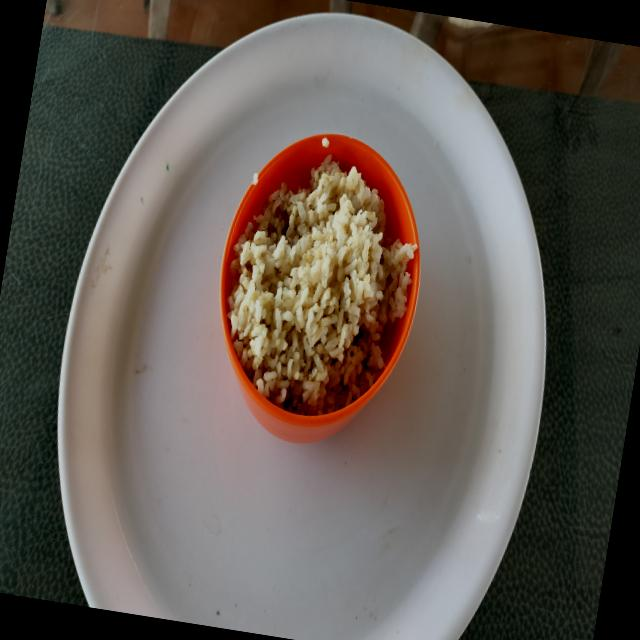brown-rice: (227, 155, 416, 417)
